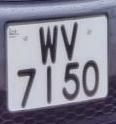0: (80, 56, 102, 101)
1: (41, 63, 60, 108)
5: (60, 59, 82, 105)
7: (14, 61, 40, 112)
V: (59, 20, 82, 65)
W: (35, 22, 62, 69)
